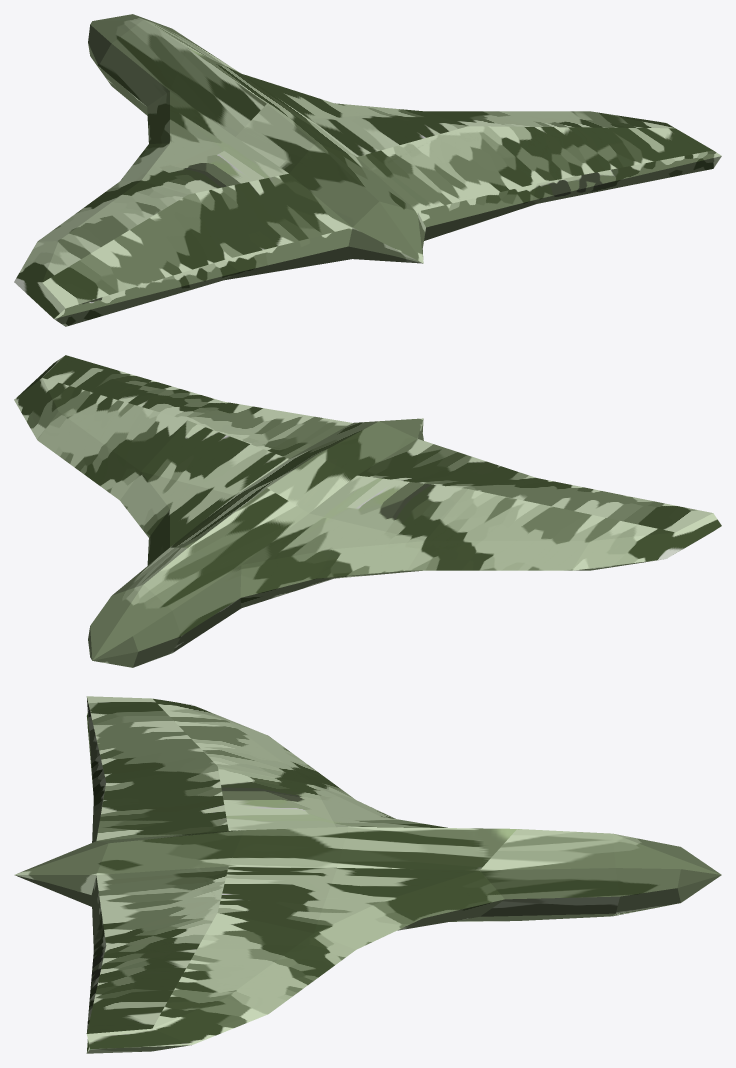
Rendered from boss.fbx.
The picture shows the model from 3 angles, top to bottom: view 1: azimuth 30°, elevation 25°; view 2: azimuth 150°, elevation 25°; view 3: azimuth 270°, elevation 25°; orthographic projection. The views are drawn at different scales.
Visible parts, largest first — view 1: Plane; view 2: Plane; view 3: Plane.
Boxes of the visible parts, left/top/right/bottom form: Plane: left=14, top=14, right=721, bottom=326; Plane: left=14, top=355, right=721, bottom=667; Plane: left=14, top=696, right=721, bottom=1053.
Bounding box in the file's own units: 4787 × 618 × 4112.
